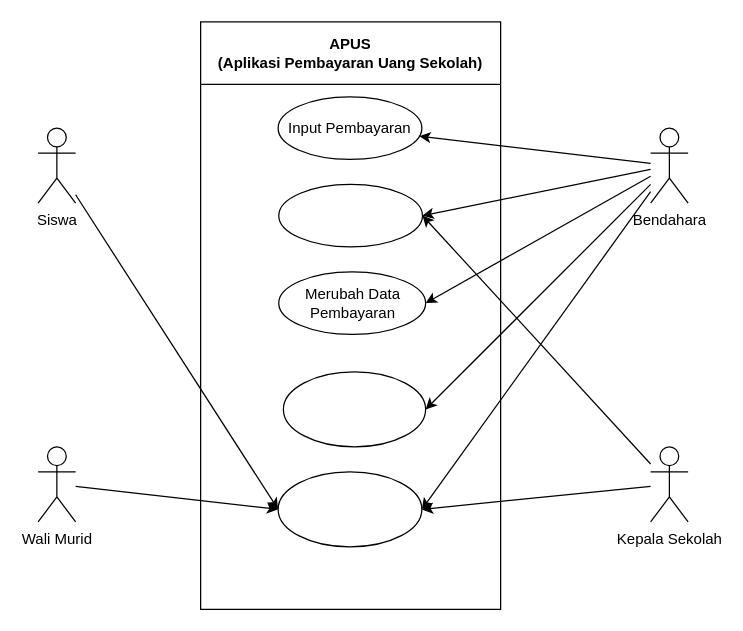
Some shapes in this 743 by 631 pixel diagram are drawn without their labels. The shapes that lost their labels are listed below. From the top down, each one's box as (x1, y1, x2, y2) in pixels, then its label:
(278, 183, 422, 247): Melihat Keuangan Sekoalh
(282, 371, 426, 447): Menghapus Data Pembayran
(277, 471, 422, 547): Melihat Histori Pembayaran
